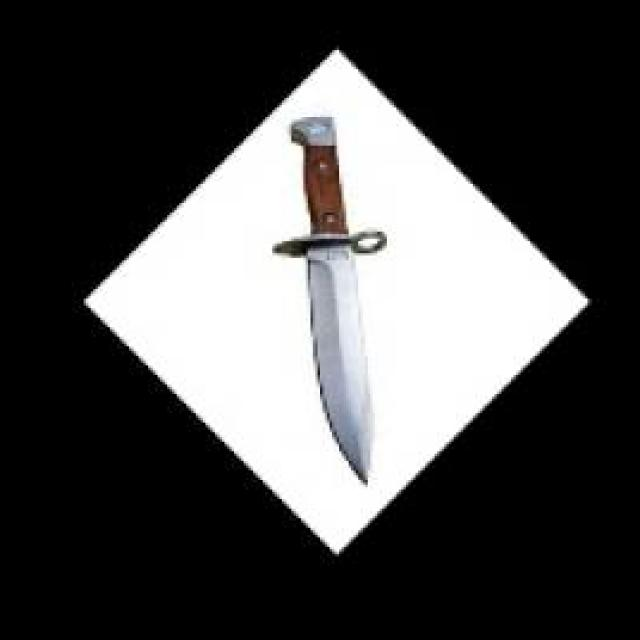knife: (272, 111, 389, 497)
